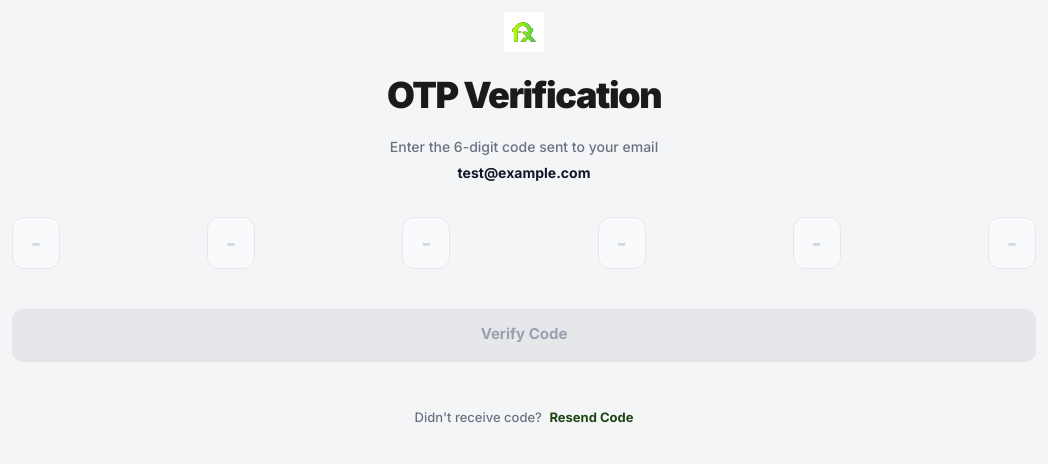
OtpVerification Component › shows server error when OTP is invalid
In the 1st field with placeholder "-": (36,243) [12,217,60,269], type "9"
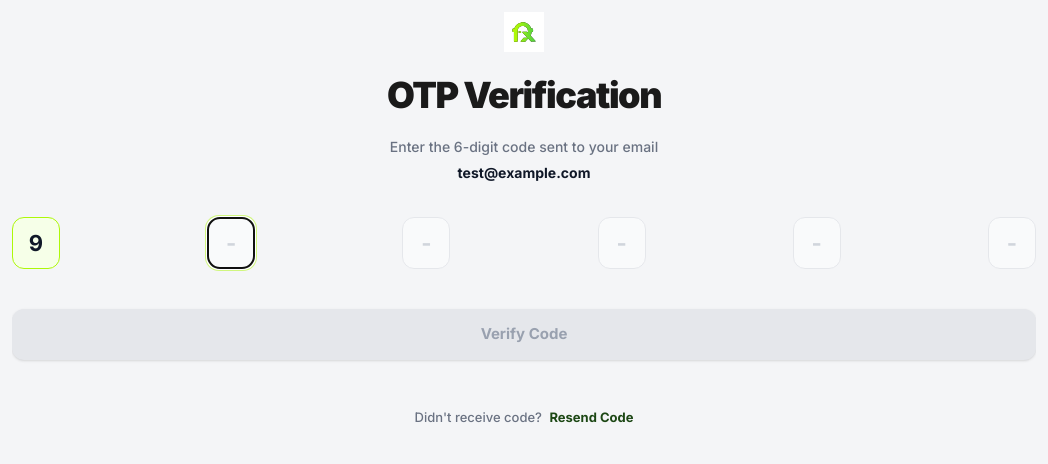
In the 1st field with placeholder "-": (231,243) [207,217,255,269], type "9"
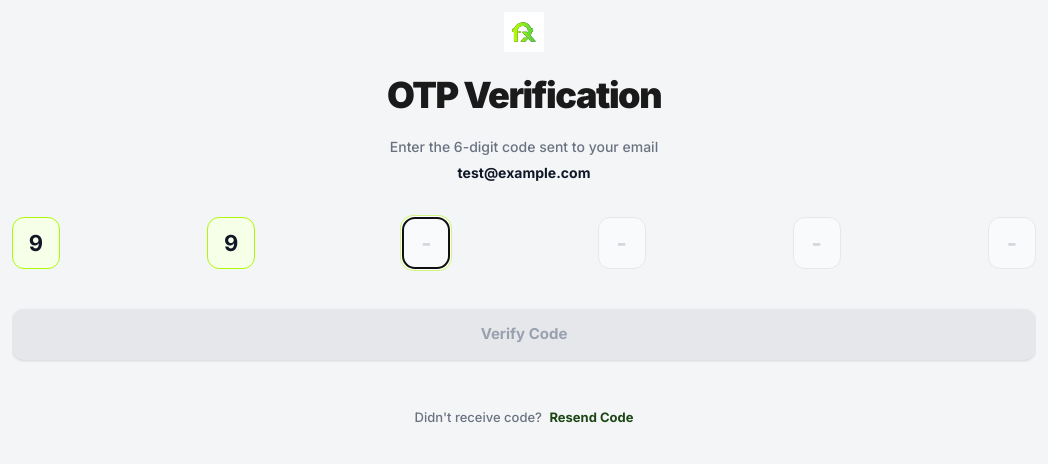
In the 1st field with placeholder "-": (426,243) [402,217,450,269], type "9"
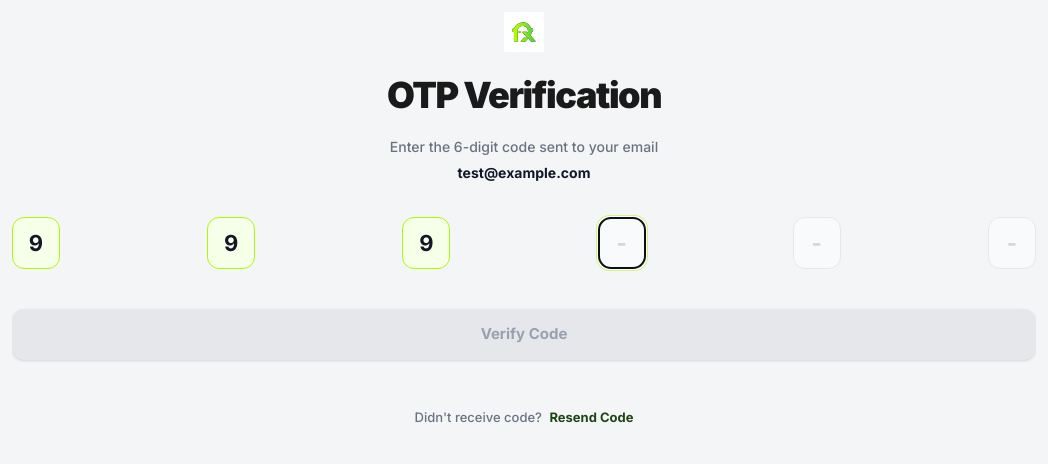
In the 1st field with placeholder "-": (622,243) [598,217,646,269], type "9"
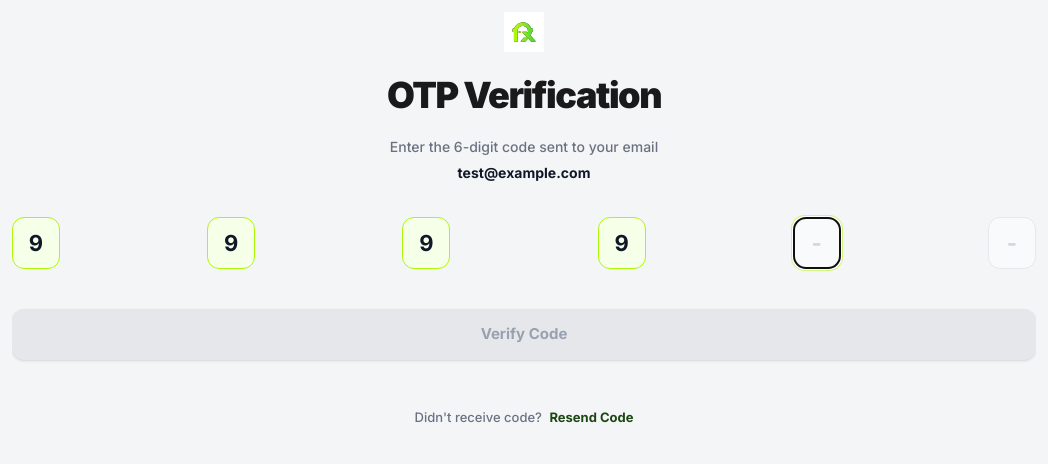
In the 1st field with placeholder "-": (817,243) [793,217,841,269], type "9"
In the field with placeholder "-": (1012,243) [988,217,1036,269], type "9"
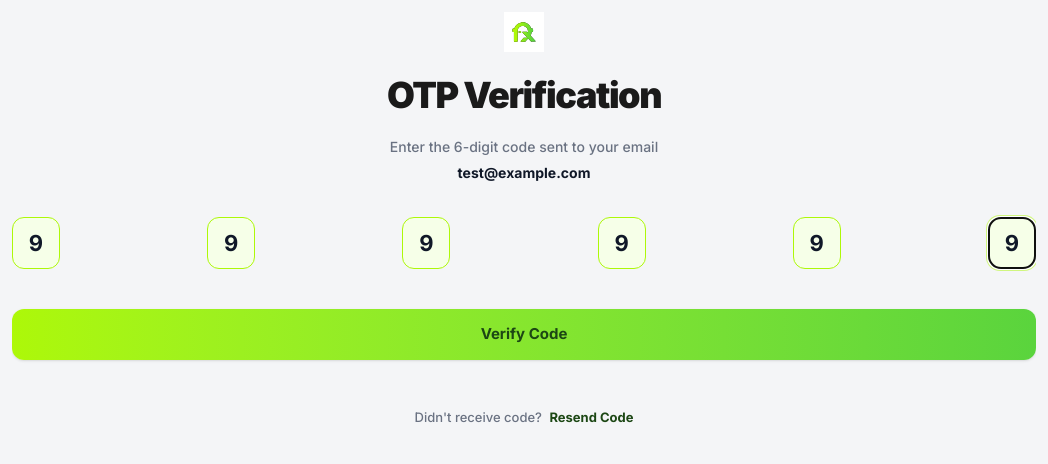
Click the button "Verify Code": (524,334) [12,309,1036,360]
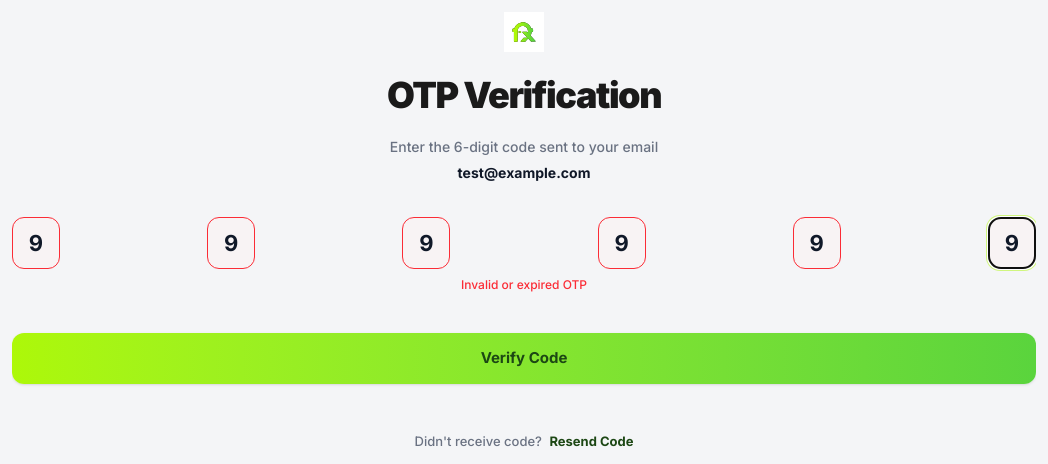
Now the text "Invalid or expired OTP" is shown, box [461,277,587,292]
